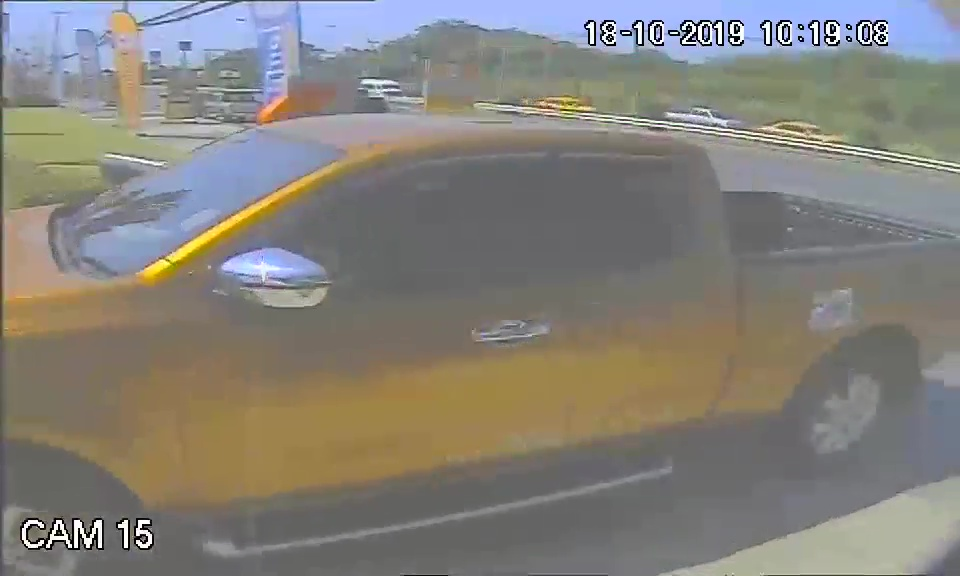pickup: (7, 109, 960, 518)
